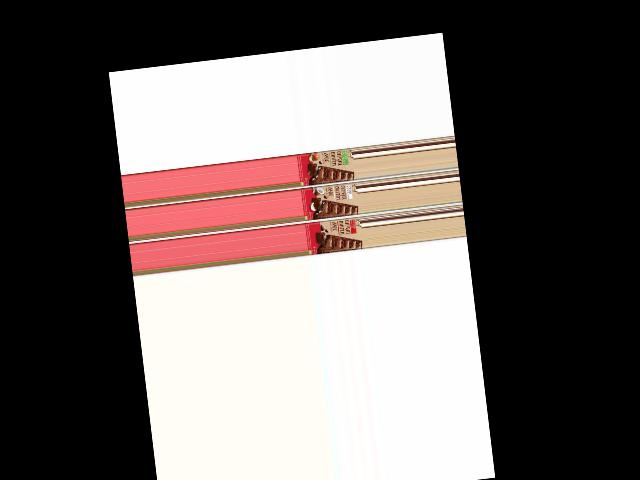chocolate: (295, 146, 355, 185)
